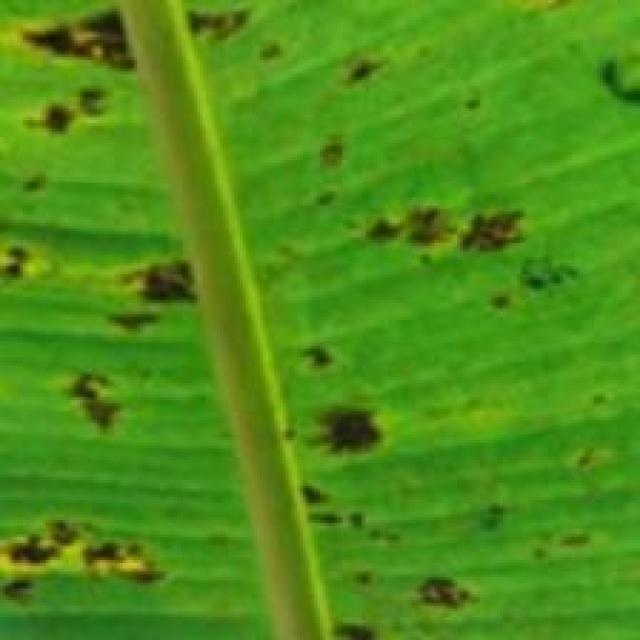Downey_mildrew: (281, 323, 626, 640), (4, 0, 380, 195), (0, 208, 214, 448), (352, 174, 594, 338), (0, 487, 223, 640), (574, 37, 640, 129)
